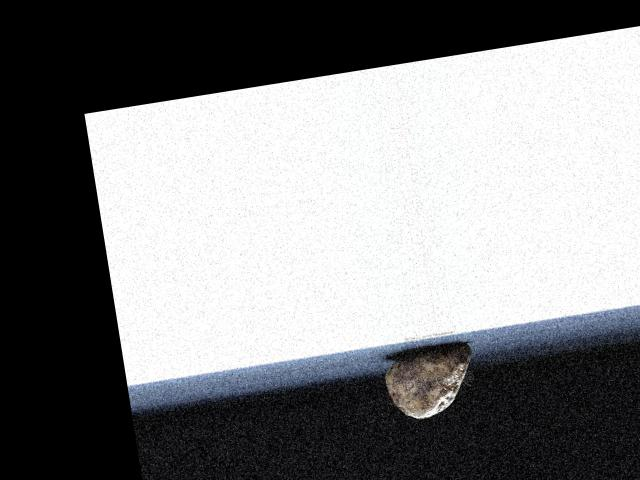beet: (380, 343, 478, 422)
